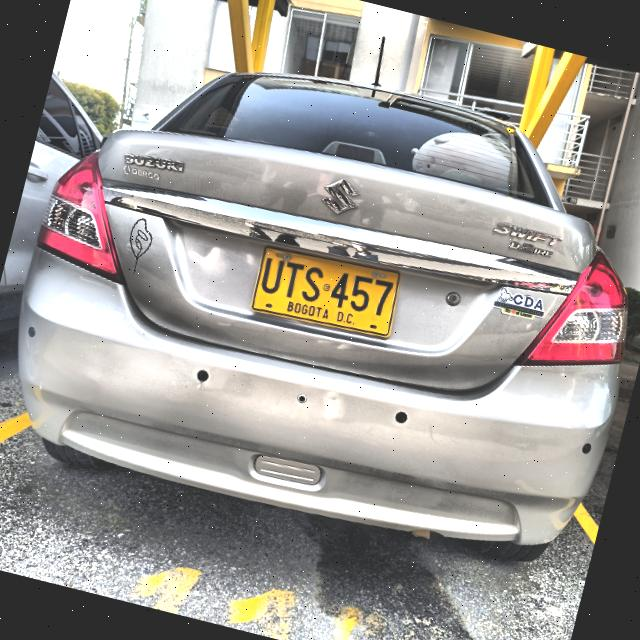4: (327, 270, 353, 311)
5: (347, 271, 374, 316)
7: (370, 278, 395, 319)
S: (296, 263, 326, 304)
T: (281, 261, 306, 299)
U: (259, 257, 285, 295)
